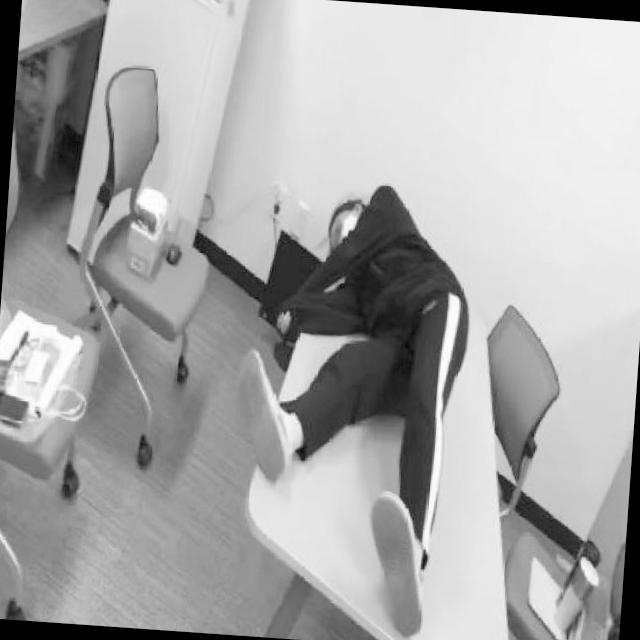person: (219, 168, 476, 638)
